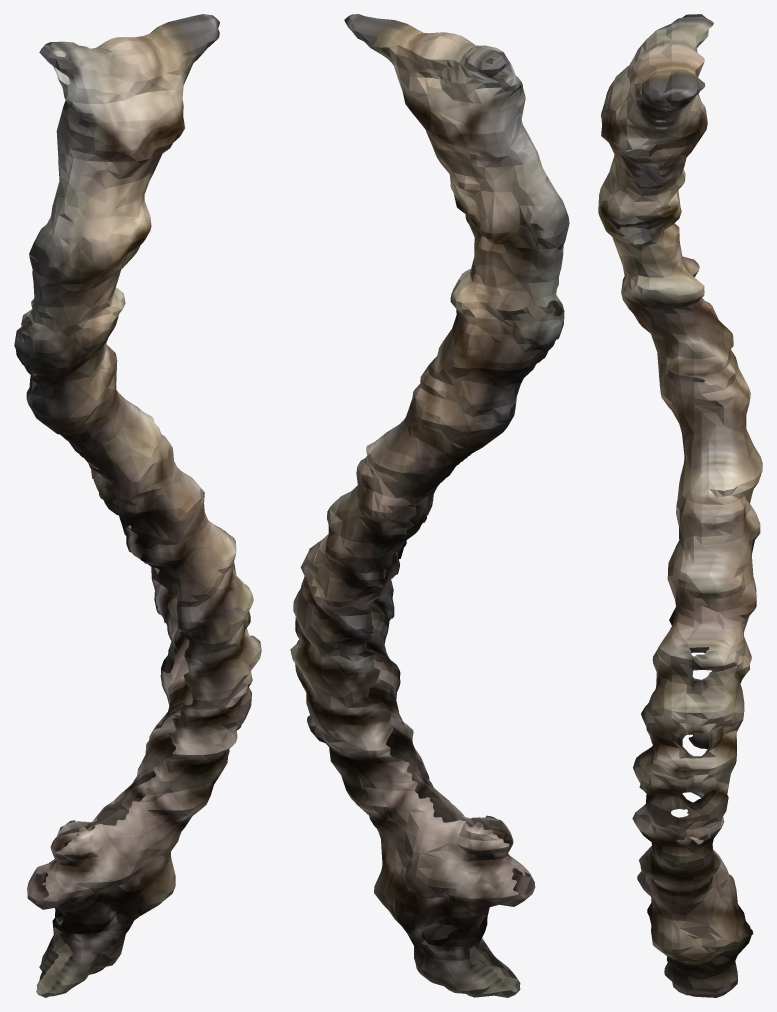
File: thorntail.glb
The picture shows the model from 3 angles, left to right: view 1: azimuth 30°, elevation 25°; view 2: azimuth 150°, elevation 25°; view 3: azimuth 270°, elevation 25°; orthographic projection. The views are drawn at different scales.
Parts seen in each view (by area): view 1: geometry_0; view 2: geometry_0; view 3: geometry_0.
Boxes of the visible parts, bbox=[...] form: geometry_0: bbox=[14, 14, 261, 997]; geometry_0: bbox=[290, 14, 569, 997]; geometry_0: bbox=[598, 14, 762, 997].
Size of the model in its own units: 0.2718 by 0.9806 by 0.1506.
Materials: 1 (1 with a texture image).
